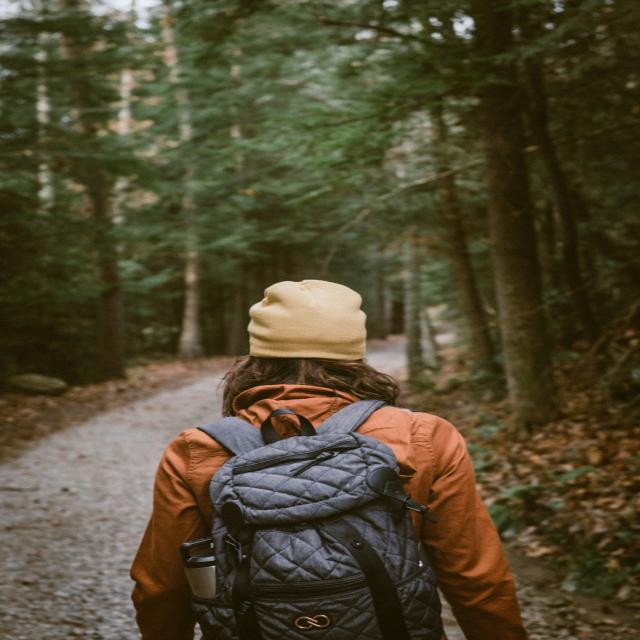adult: (124, 277, 529, 640)
